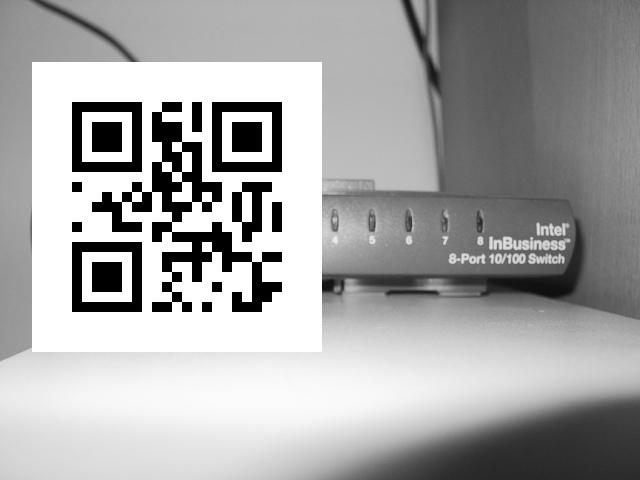qr_code: (33, 61, 321, 350)
